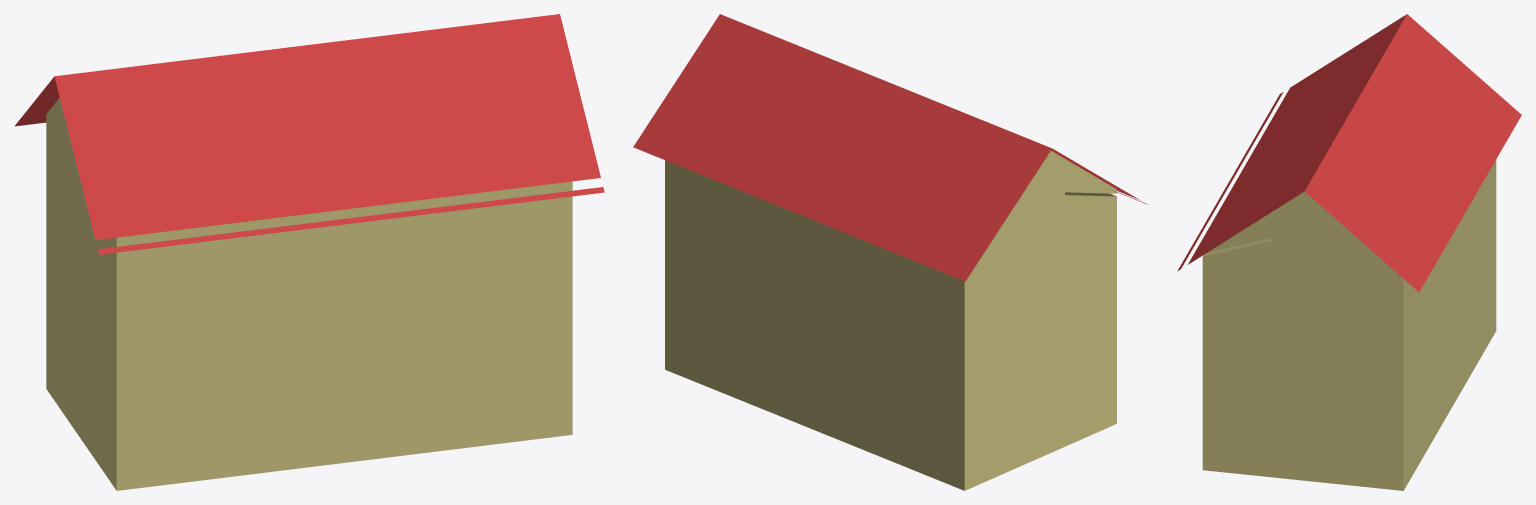
3 views of the same model, side by side, from view 1: azimuth 30°, elevation 25°; view 2: azimuth 150°, elevation 25°; view 3: azimuth 270°, elevation 25° (orthographic). The views are drawn at different scales.
Size of the model in its own units: 16.98 by 12.22 by 11.66.
